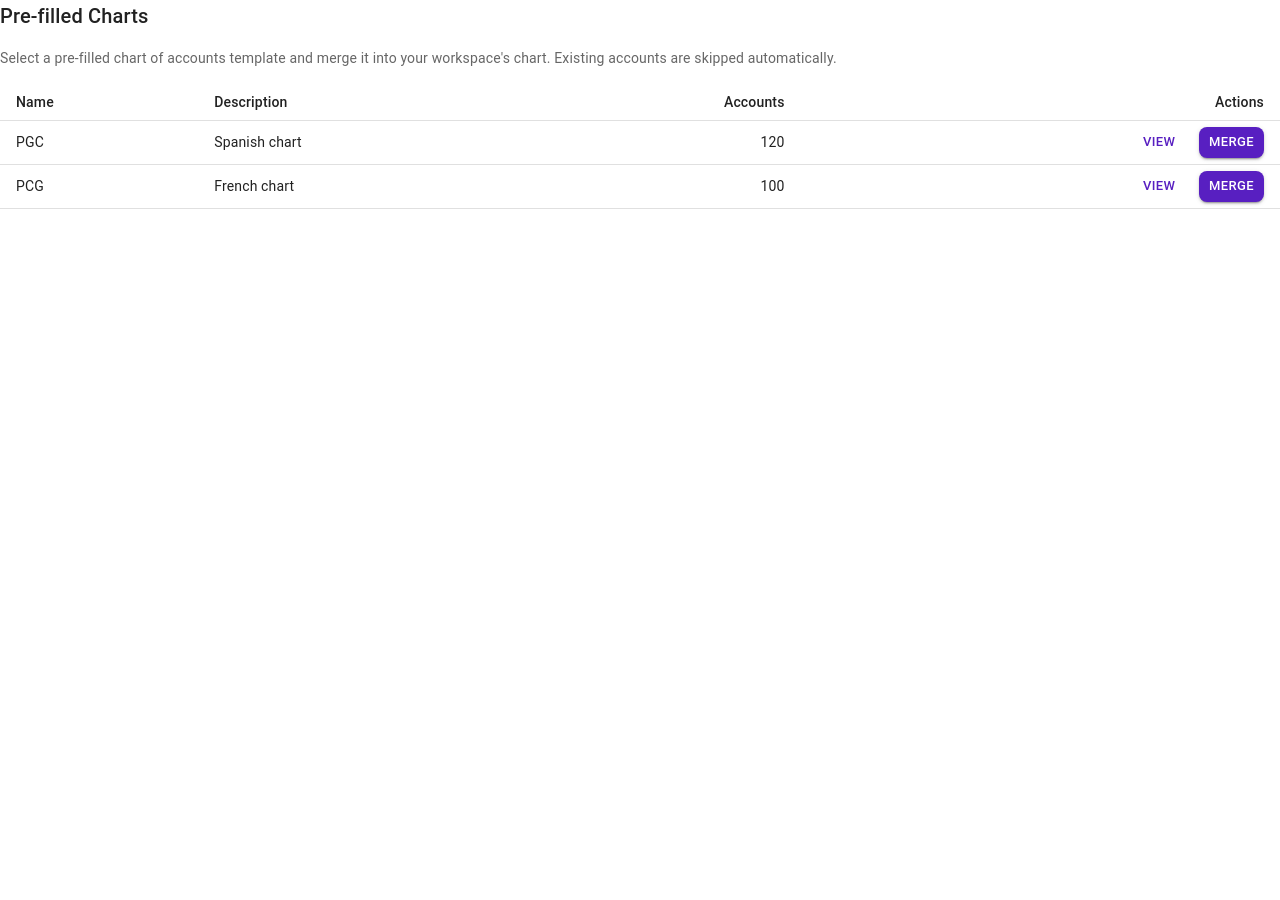
Test: PrefilledChartsTab › opens merge confirmation and shows report on success
Click merge button
Click the button with test id "merge-es-pgc" at (1232, 142), box [1199, 127, 1264, 158]
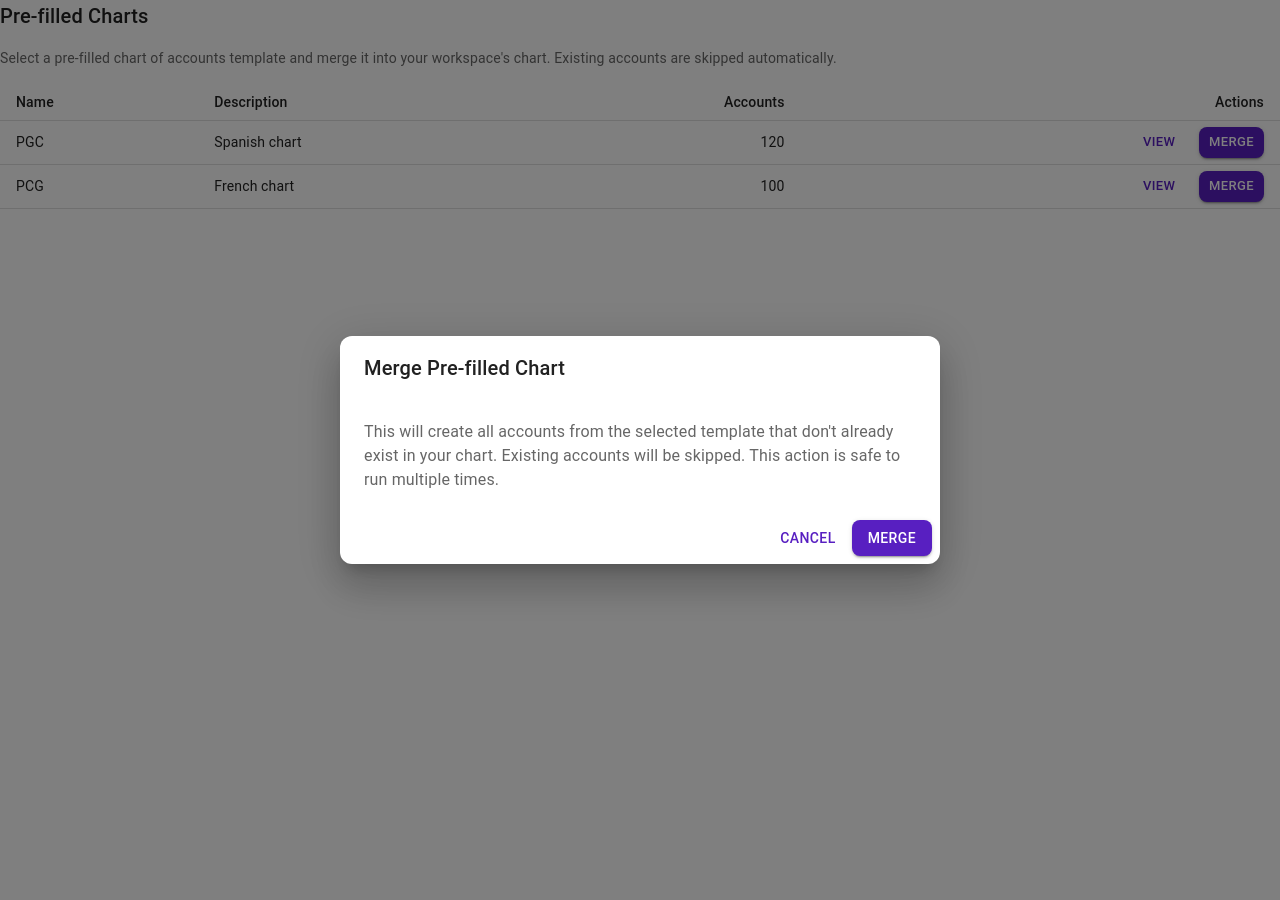
Result: the button with test id "confirm-merge" is shown
Confirm merge
Click the button with test id "confirm-merge" at (892, 538), box [852, 520, 932, 556]
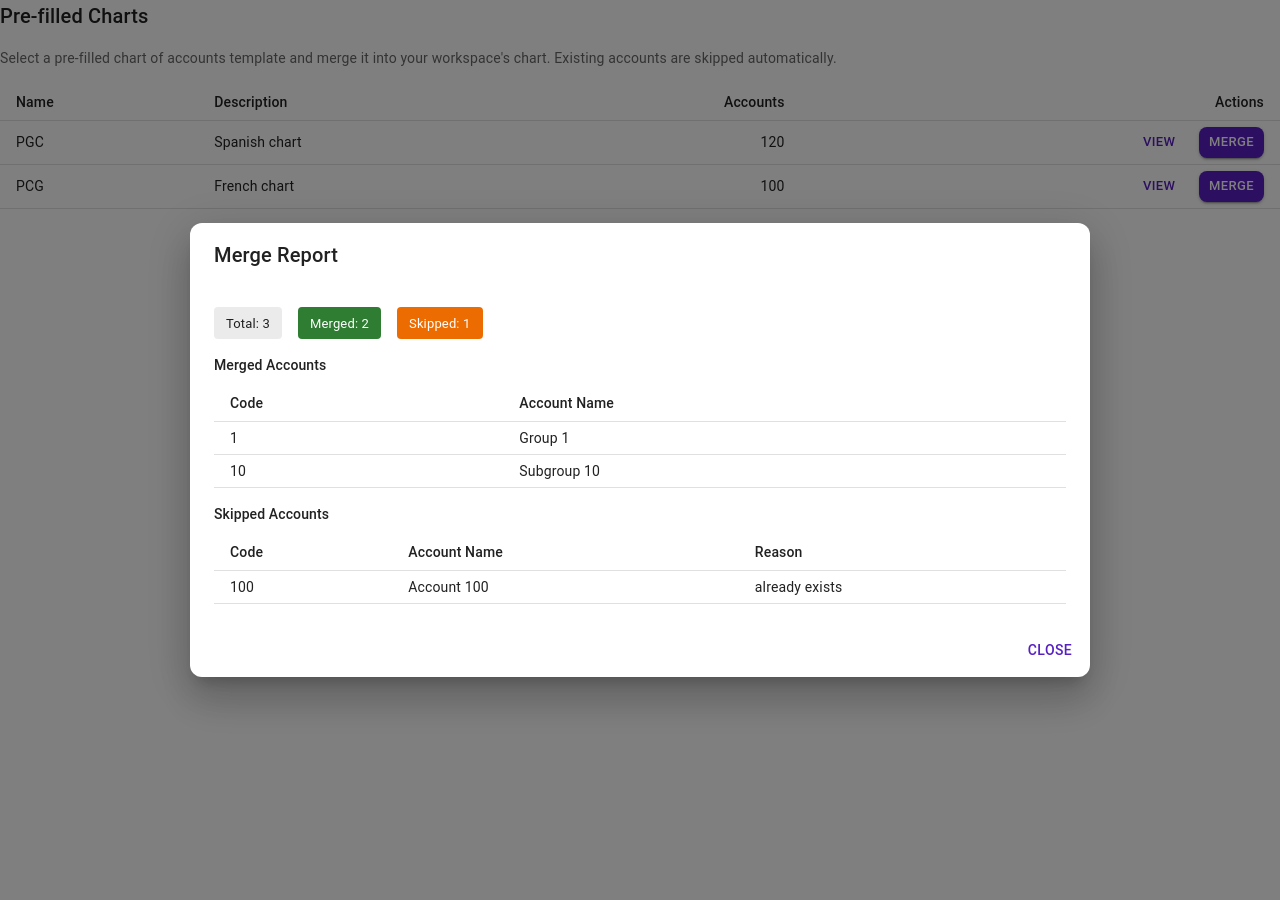
Result: the text "already exists" is shown at [739, 571, 1066, 604]
